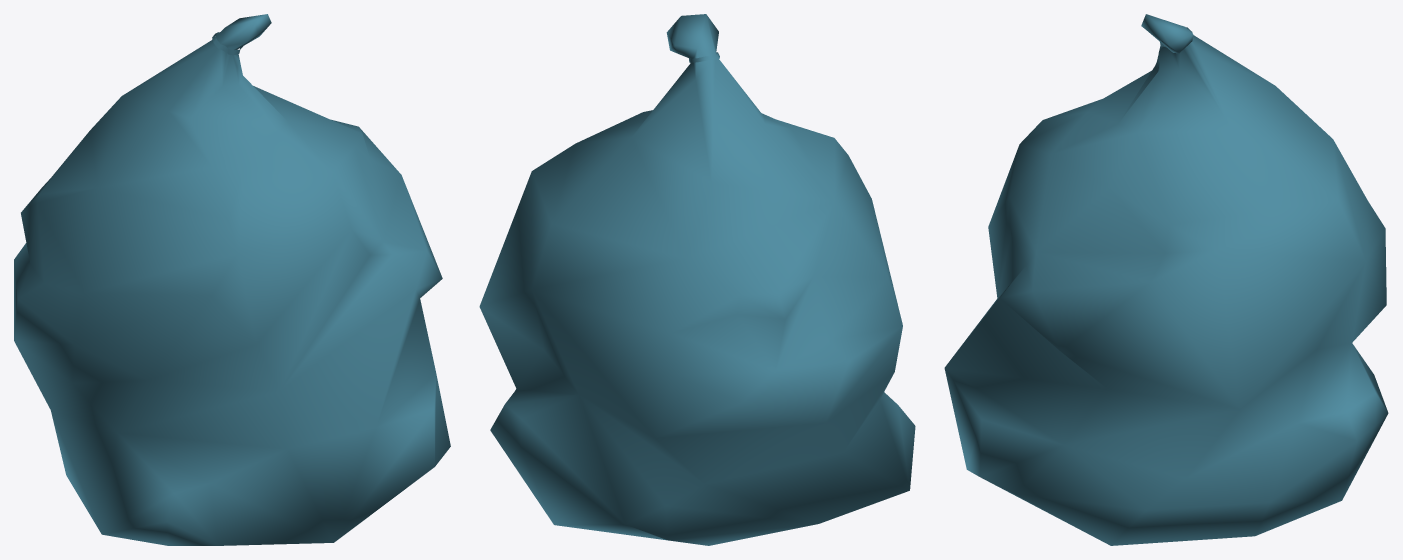
File: garbage.FBX
The picture shows the model from 3 angles, left to right: view 1: azimuth 30°, elevation 25°; view 2: azimuth 150°, elevation 25°; view 3: azimuth 270°, elevation 25°; orthographic projection.
Visible parts, largest first — view 1: Object1106; view 2: Object1106; view 3: Object1106.
Part boxes in pixels (x1=…): Object1106: x1=14, y1=14, x2=450, y2=545; Object1106: x1=479, y1=14, x2=915, y2=545; Object1106: x1=944, y1=14, x2=1388, y2=545.
Size of the model in its own units: 0.7716 by 0.9049 by 0.791.
